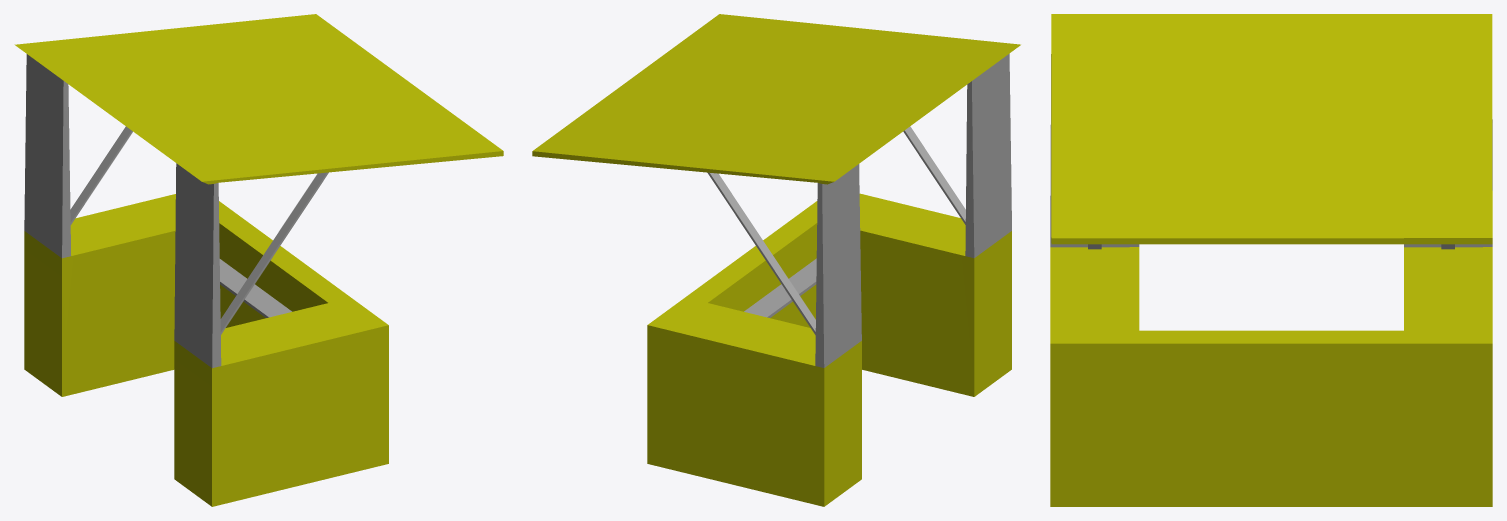
File: StandB.fbx
3 views of the same model, side by side, from view 1: azimuth 30°, elevation 25°; view 2: azimuth 150°, elevation 25°; view 3: azimuth 270°, elevation 25° (orthographic). The views are drawn at different scales.
Visible parts, largest first — view 1: Stand2; view 2: Stand2; view 3: Stand2.
Boxes of the visible parts, left/top/right/bottom form: Stand2: left=14, top=14, right=503, bottom=506; Stand2: left=532, top=14, right=1020, bottom=506; Stand2: left=1050, top=14, right=1492, bottom=506.
Size of the model in its own units: 322 by 334 by 347.
